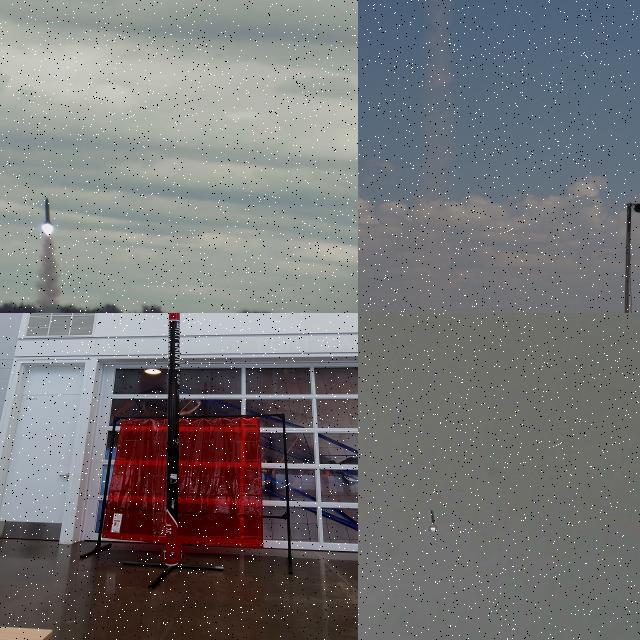Rocket: (160, 313, 186, 565), (42, 197, 54, 225), (428, 509, 438, 527)
